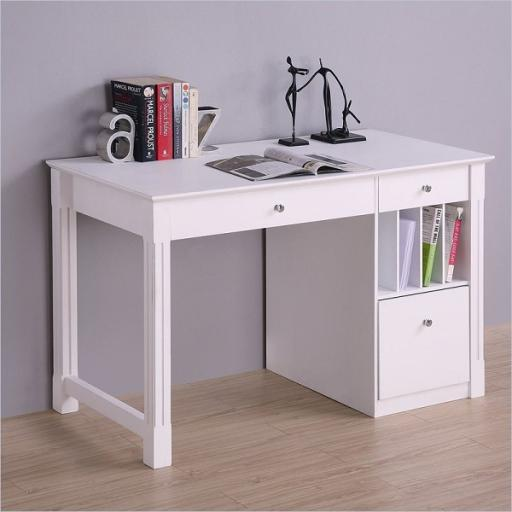desk: (44, 127, 498, 469)
wall: (1, 1, 511, 418)
